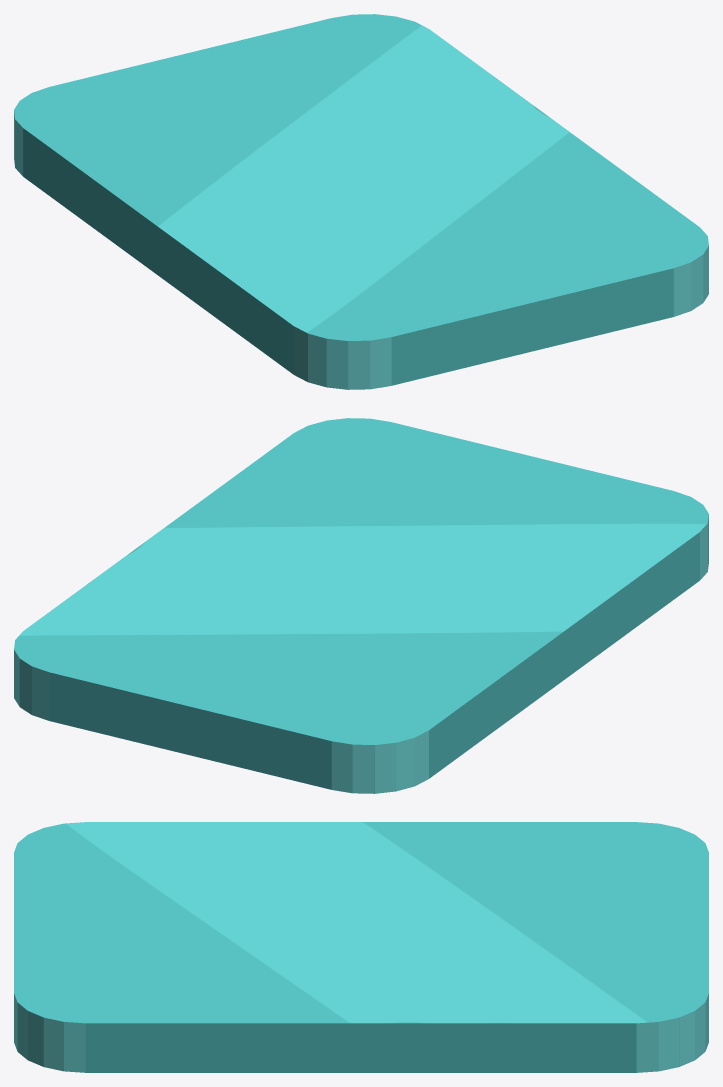
The model's file is screen_repaired.glb.
3 views of the same model, one above another, from view 1: azimuth 30°, elevation 25°; view 2: azimuth 150°, elevation 25°; view 3: azimuth 270°, elevation 25° (orthographic).
Visible parts, largest first — view 1: screen repaired; view 2: screen repaired; view 3: screen repaired.
Boxes of the visible parts, x1,y1,x2,y2 form: screen repaired: (14,14,708,389); screen repaired: (14,418,708,793); screen repaired: (14,822,708,1072).
Bounding box in the file's own units: 0.61 × 0.07 × 0.89.
1 material, 1 textured.
